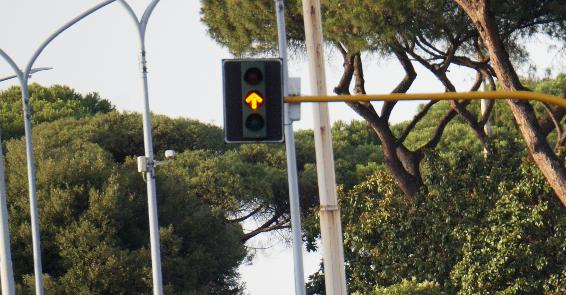yellow_light: (222, 58, 285, 142)
